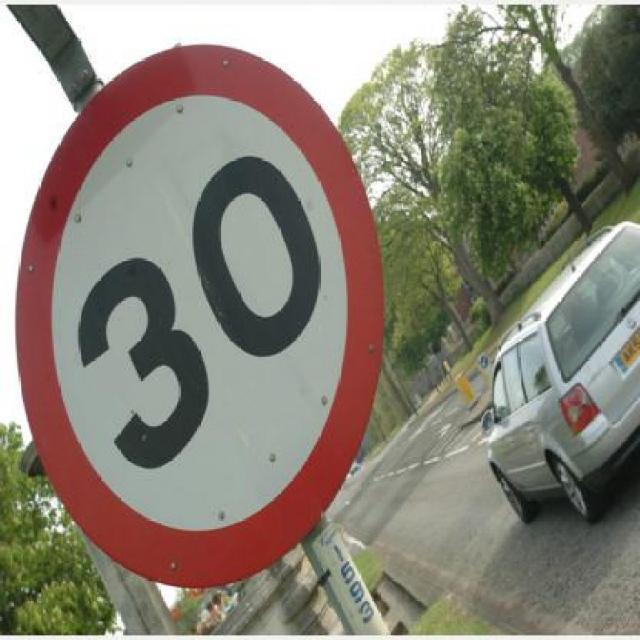speed limit 30: (14, 42, 386, 589)
